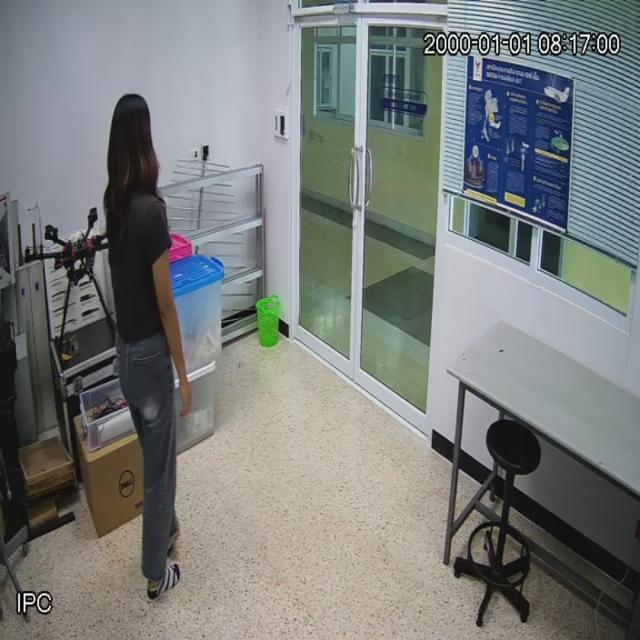normal: (104, 94, 182, 586)
